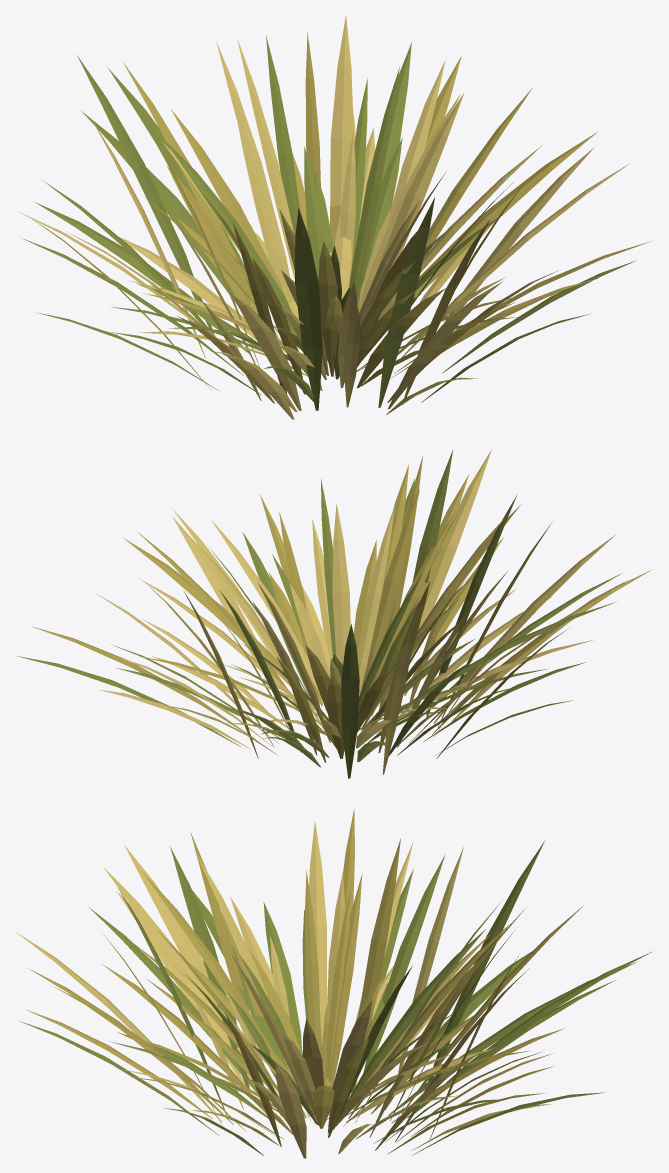
Rendered from grass_tall.glb.
3 views of the same model, one above another, from view 1: azimuth 30°, elevation 25°; view 2: azimuth 150°, elevation 25°; view 3: azimuth 270°, elevation 25° (orthographic). The views are drawn at different scales.
Parts seen in each view (by area): view 1: grass_tall; view 2: grass_tall; view 3: grass_tall.
Part boxes in pixels (x1,y1,x2,y2): grass_tall: [19, 15, 651, 419]; grass_tall: [17, 449, 652, 778]; grass_tall: [16, 809, 652, 1158].
Size of the model in its own units: 1.51 by 0.6692 by 1.68.
